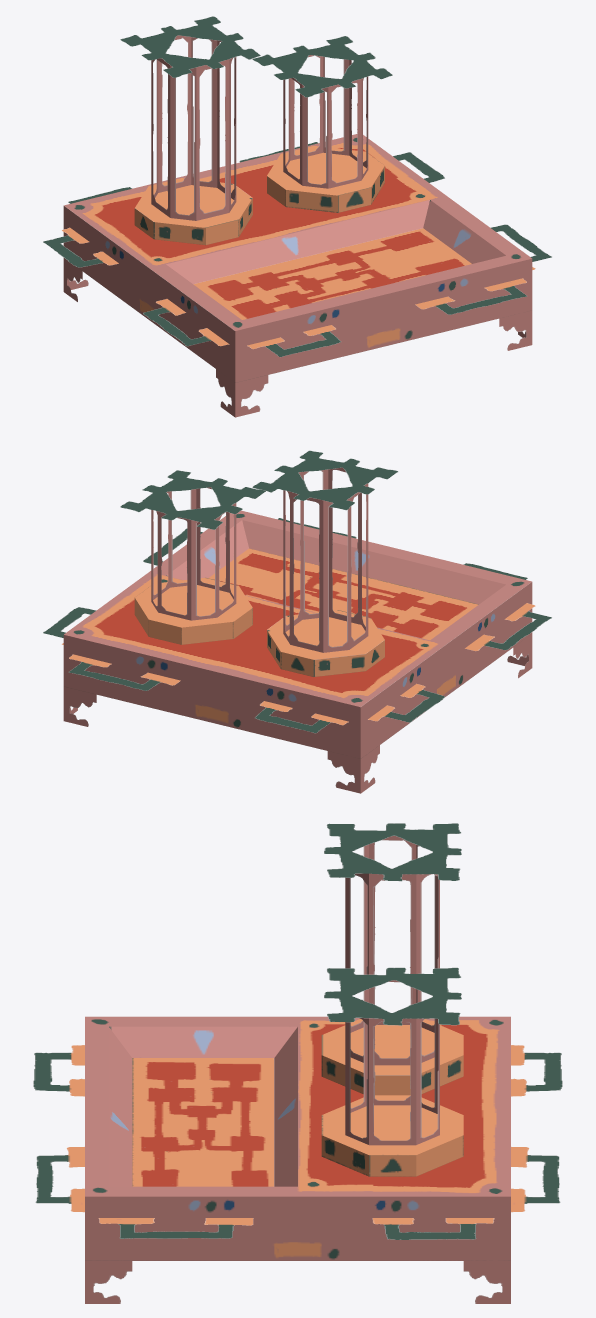
Rendered from balancer.obj.
3 renders of one model, top to bottom at view 1: azimuth 30°, elevation 25°; view 2: azimuth 150°, elevation 25°; view 3: azimuth 270°, elevation 25°, orthographic. The views are drawn at different scales.
Visible parts, largest first — view 1: plane; view 2: plane; view 3: plane.
Part boxes in pixels (x1,y1,x2,y2): plane: (43,16,551,417); plane: (43,450,551,793); plane: (33,823,562,1303).
Size of the model in its own units: 24 by 15 by 24.
